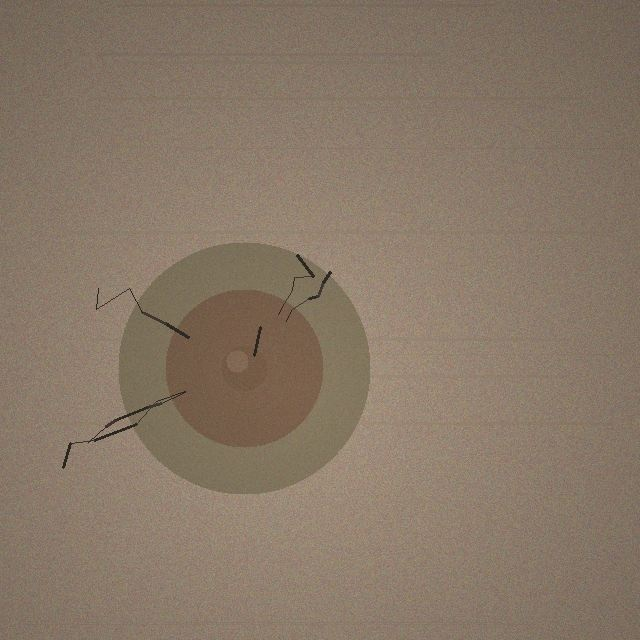crack: (118, 242, 370, 494)
